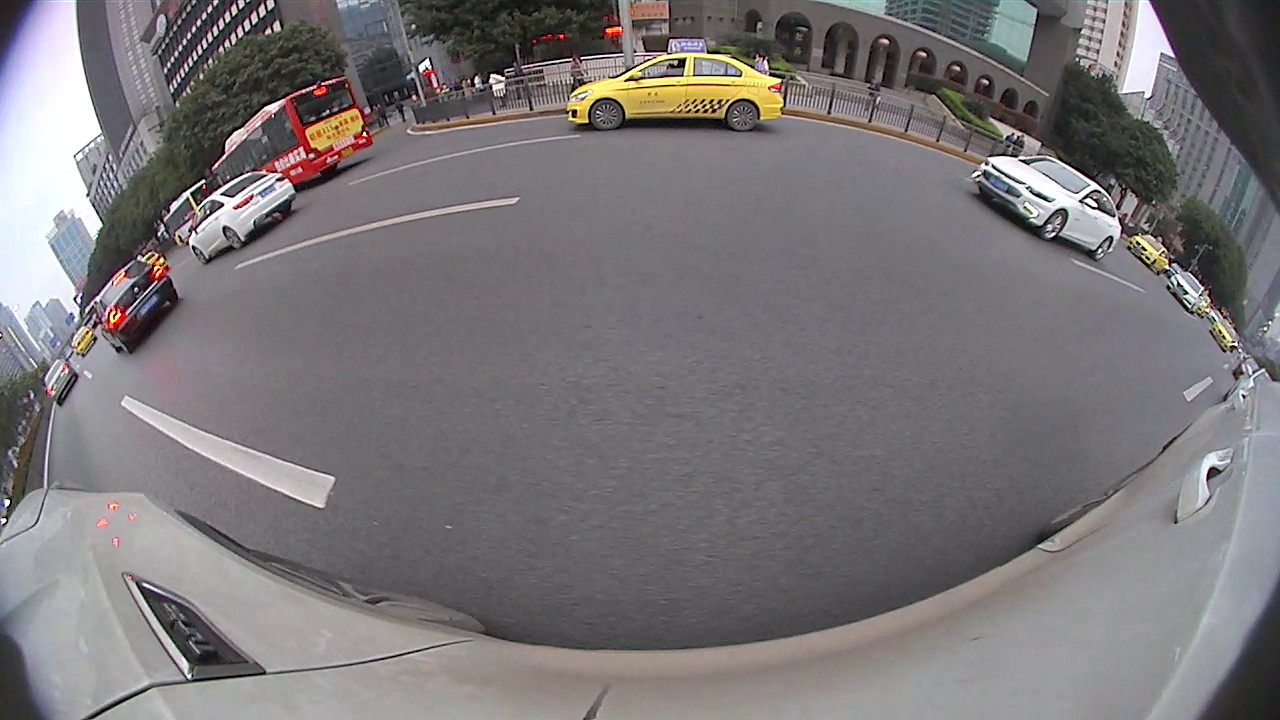bus: (211, 74, 375, 193), (164, 177, 220, 248)
car: (566, 53, 787, 132), (968, 154, 1125, 262), (187, 170, 299, 266), (95, 259, 179, 357), (1127, 232, 1170, 277), (1166, 270, 1207, 316), (44, 357, 79, 407)
front: (592, 102, 622, 128), (1042, 212, 1065, 239), (192, 245, 207, 263)
rear: (725, 103, 758, 130), (222, 227, 244, 247), (1095, 237, 1113, 259)
